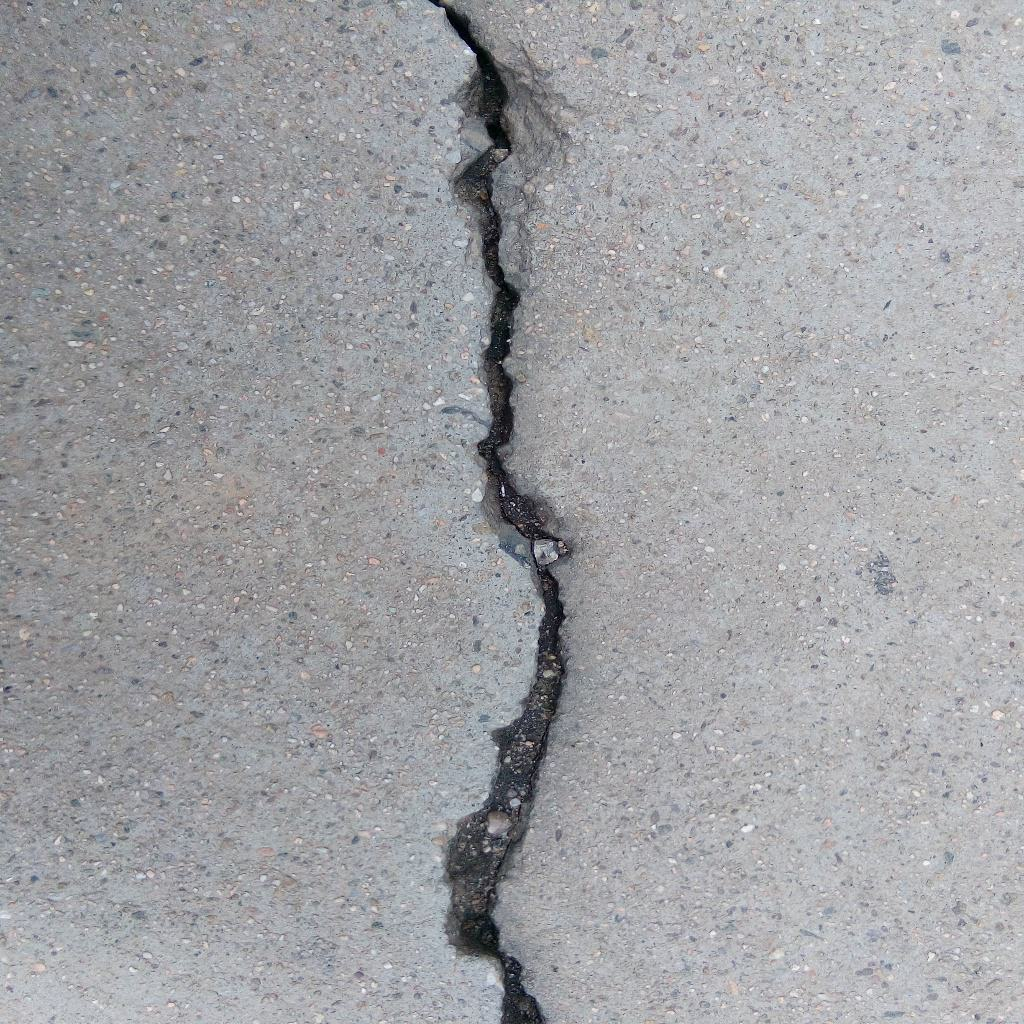Crack: (428, 1, 579, 1024)
